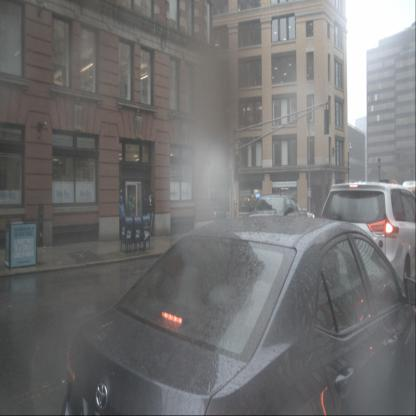human-pedestrian-adult: (146, 192, 155, 236), (119, 196, 127, 238), (127, 194, 134, 237)
vehicle-car: (60, 212, 415, 415), (315, 180, 416, 310), (247, 195, 308, 248), (401, 180, 416, 201)
